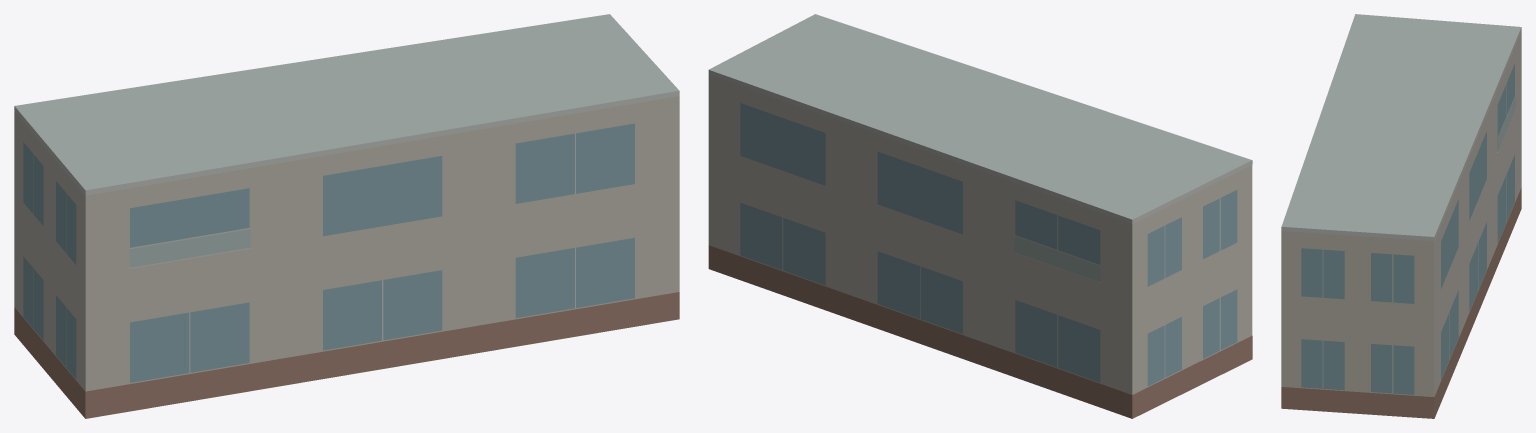
Rendered from survey-upis-32584643.glb.
3 renders of one model, left to right at view 1: azimuth 30°, elevation 25°; view 2: azimuth 150°, elevation 25°; view 3: azimuth 270°, elevation 25°, orthographic. The views are drawn at different scales.
Parts seen in each view (by area): view 1: survey-upis-32584643.tmp; view 2: survey-upis-32584643.tmp; view 3: survey-upis-32584643.tmp.
Boxes of the visible parts, bbox=[...] form: survey-upis-32584643.tmp: bbox=[14, 14, 679, 418]; survey-upis-32584643.tmp: bbox=[708, 14, 1252, 418]; survey-upis-32584643.tmp: bbox=[1281, 14, 1521, 418].
Bounding box in the file's own units: 27.46 × 10.44 × 12.5.
